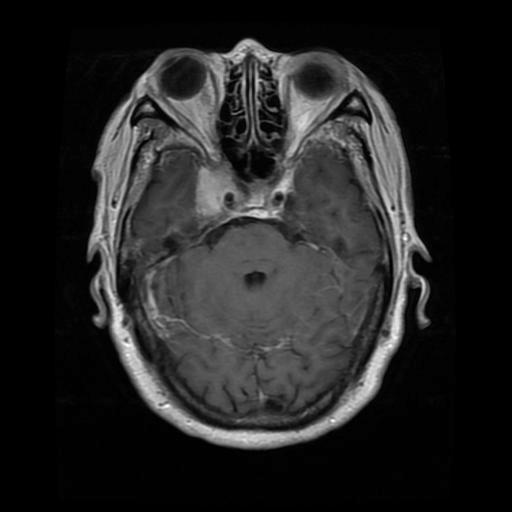Tumour-Meningioma: (183, 157, 262, 245)
